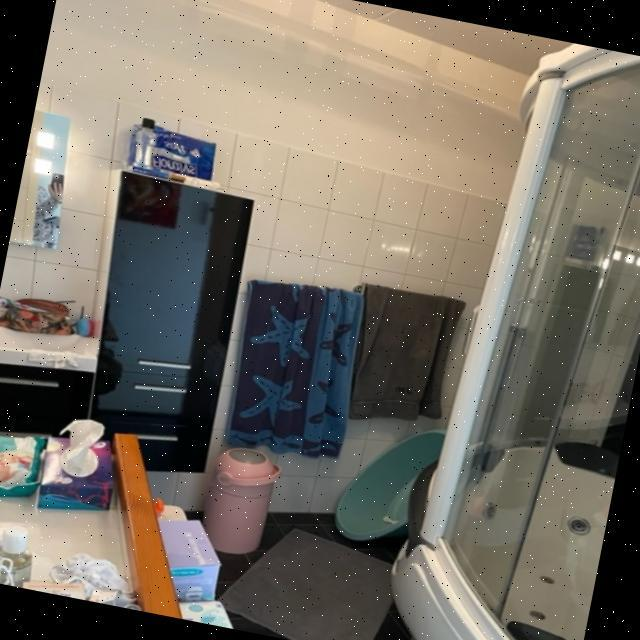douche: (373, 28, 640, 640)
wastafel: (0, 350, 100, 452), (0, 290, 104, 371)
